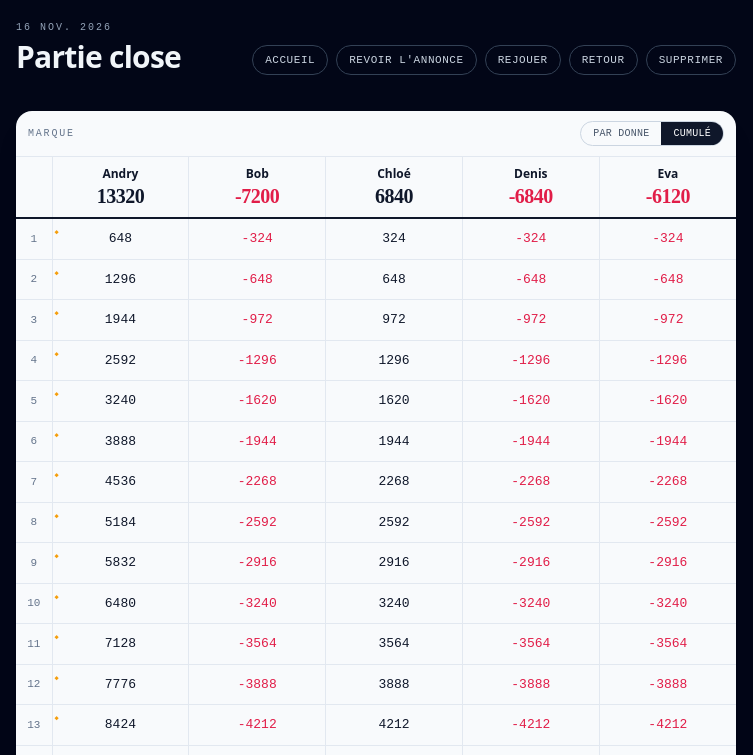
it: Classement par soirée › ajoute les badges de la soirée à la cérémonie, sans « Recrue »
Click the button "Revoir l'annonce" at [406, 60], box [336,44,477,75]
(page scrolled)
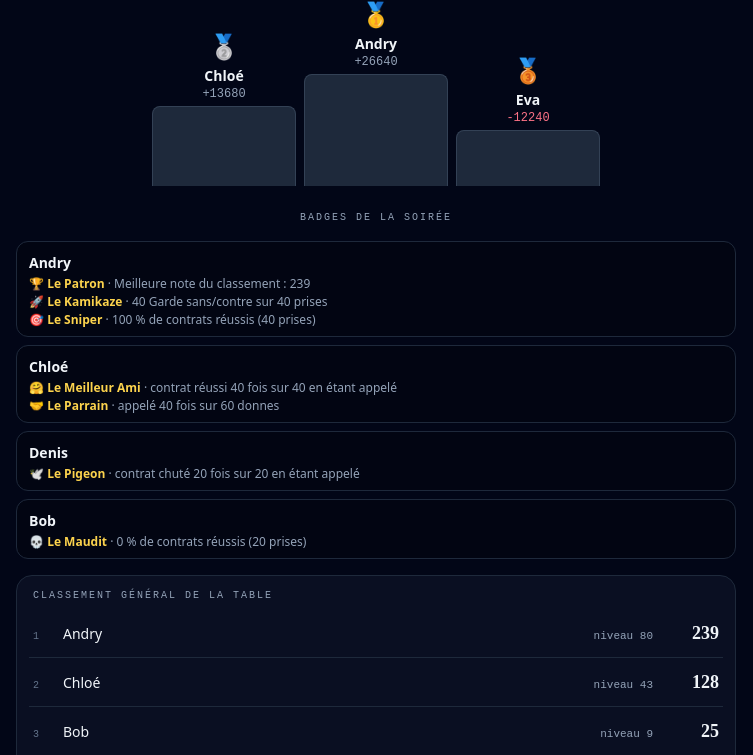
Expected: the element with test id "annonce-soiree-badges" does not show "Recrue", [16,210,736,559]
Expected: the element with test id "annonce-soiree-badges" shows "Badges de la soirée", [300,212,452,223]
Expected: the element with test id "badge" that starts with "Le Patron" is shown, [29,275,310,292]
